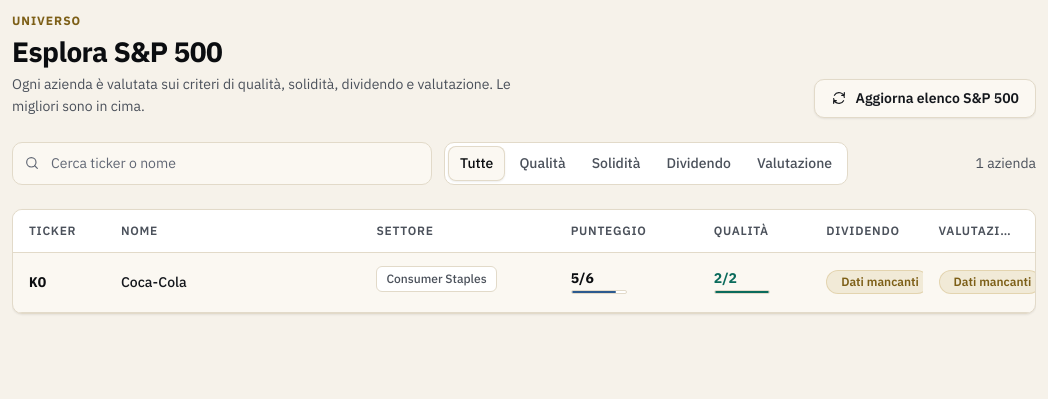
Explore screen › the update button asks the server to reload the S&P 500 list
Click the button "Aggiorna elenco S&P 500" at {"x": 925, "y": 98}, box [814,79,1036,118]
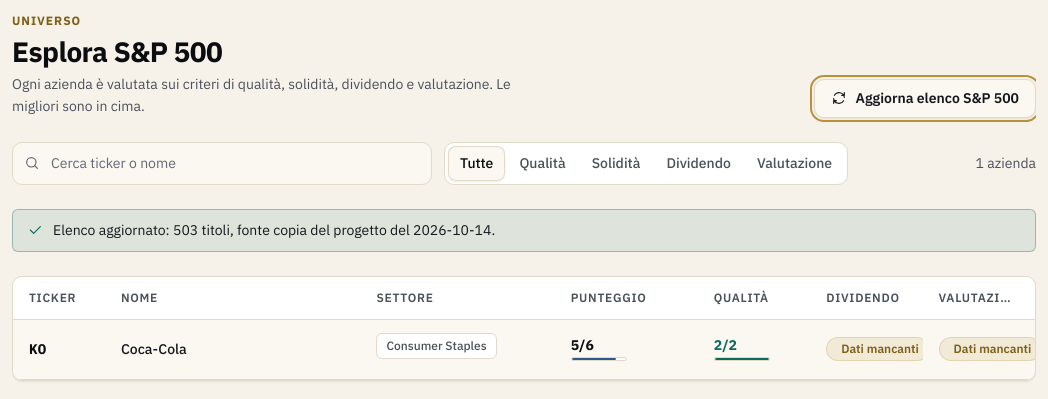
Result: the message shows "503 titoli" at [12,209,1036,252]
